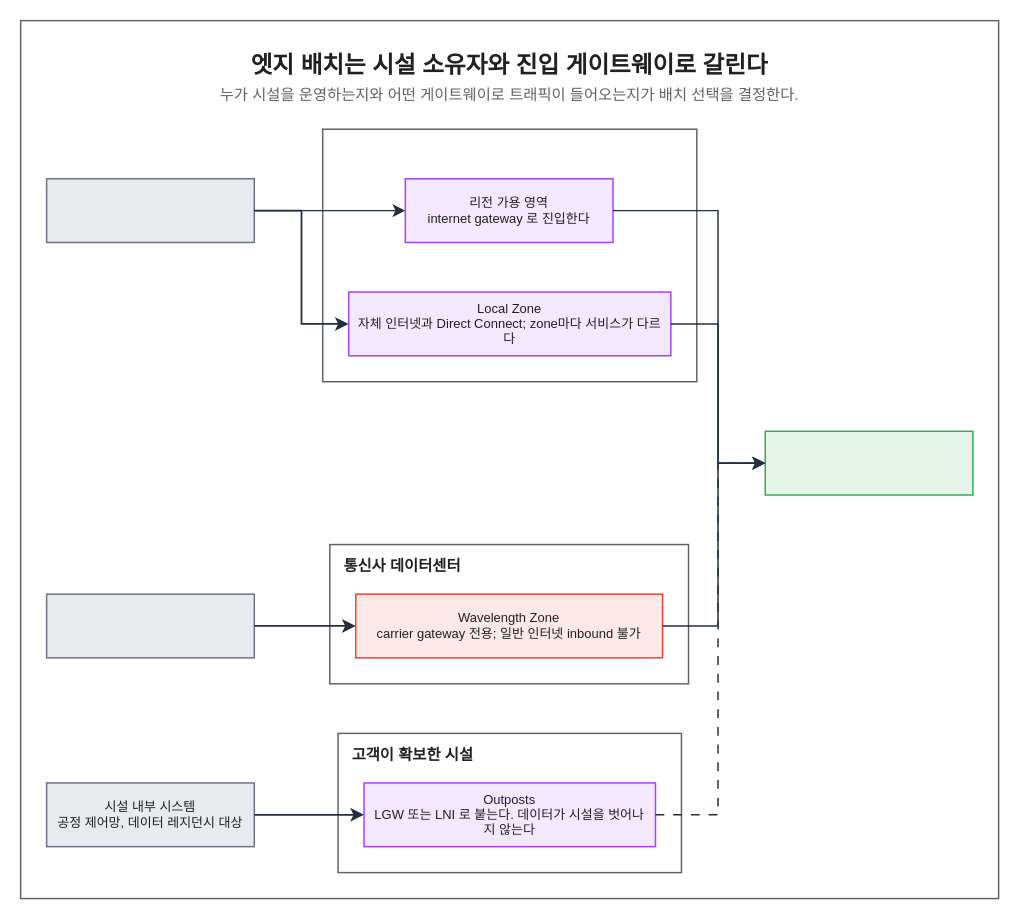
Image size: 1021x920. Some labels were removed from this diagram. Each missing label, with the box of its shape:
AWS 가 운영하는 위치: (321, 128, 697, 382)
부모 리전 control plane 네 배치 모두 리전에 묶여 관리된다: (764, 430, 973, 495)
인터넷 사용자 유선과 일반 모바일 회선: (45, 177, 255, 243)
통신사 네트워크 단말 5G 단말, 통신사 안에서만 진입: (45, 593, 255, 658)
